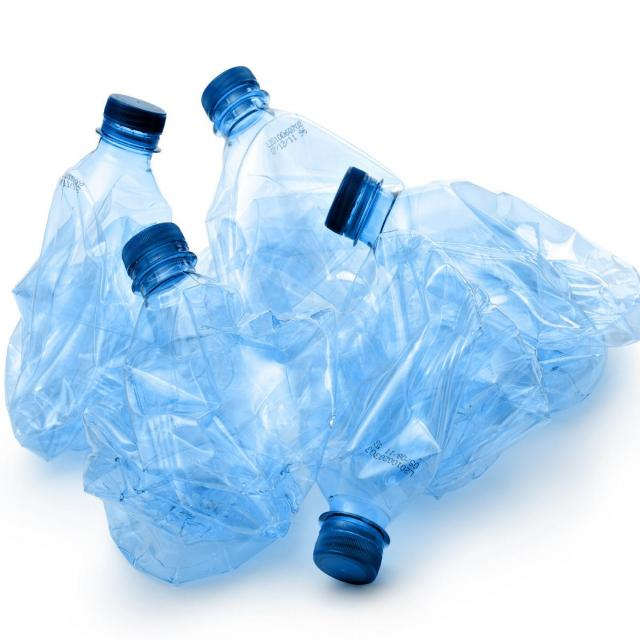plastic_bottle: (46, 128, 195, 480), (341, 286, 577, 492), (213, 90, 332, 491), (343, 193, 626, 355), (133, 230, 257, 577), (328, 313, 432, 578)
